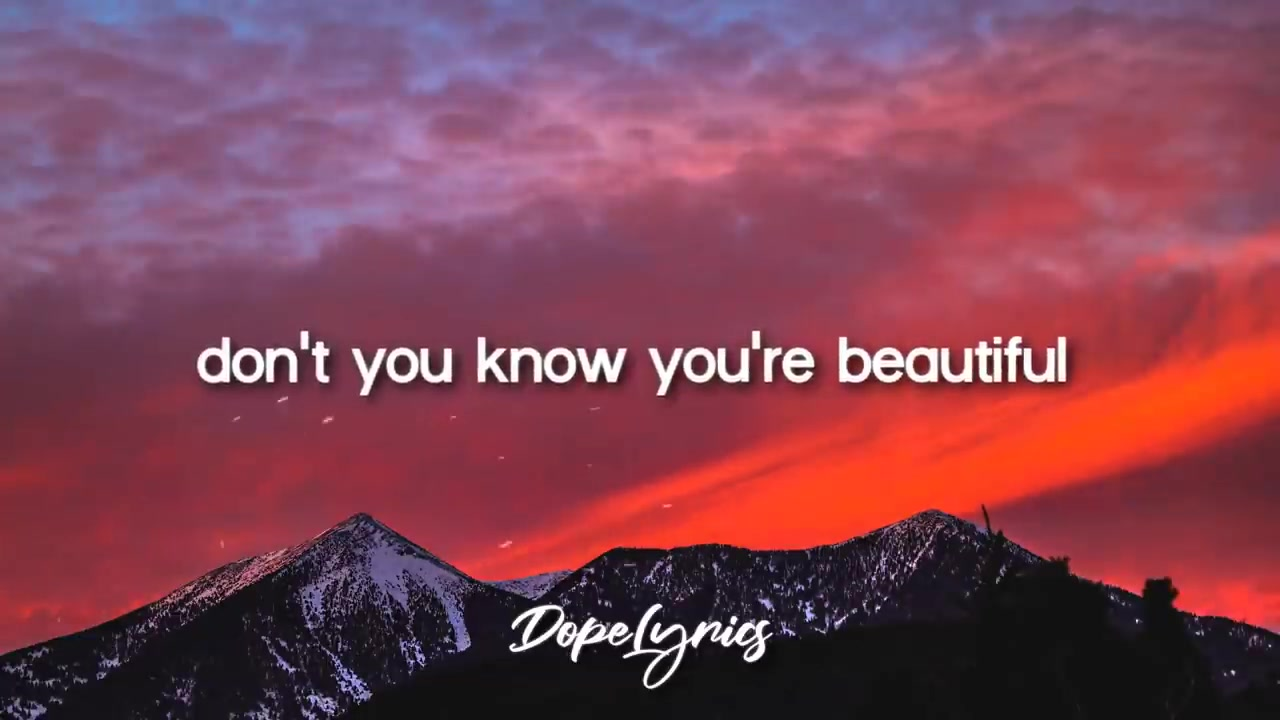text-label: (188, 328, 1077, 407)
